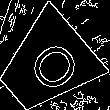O_SW: (14, 33, 79, 98)
